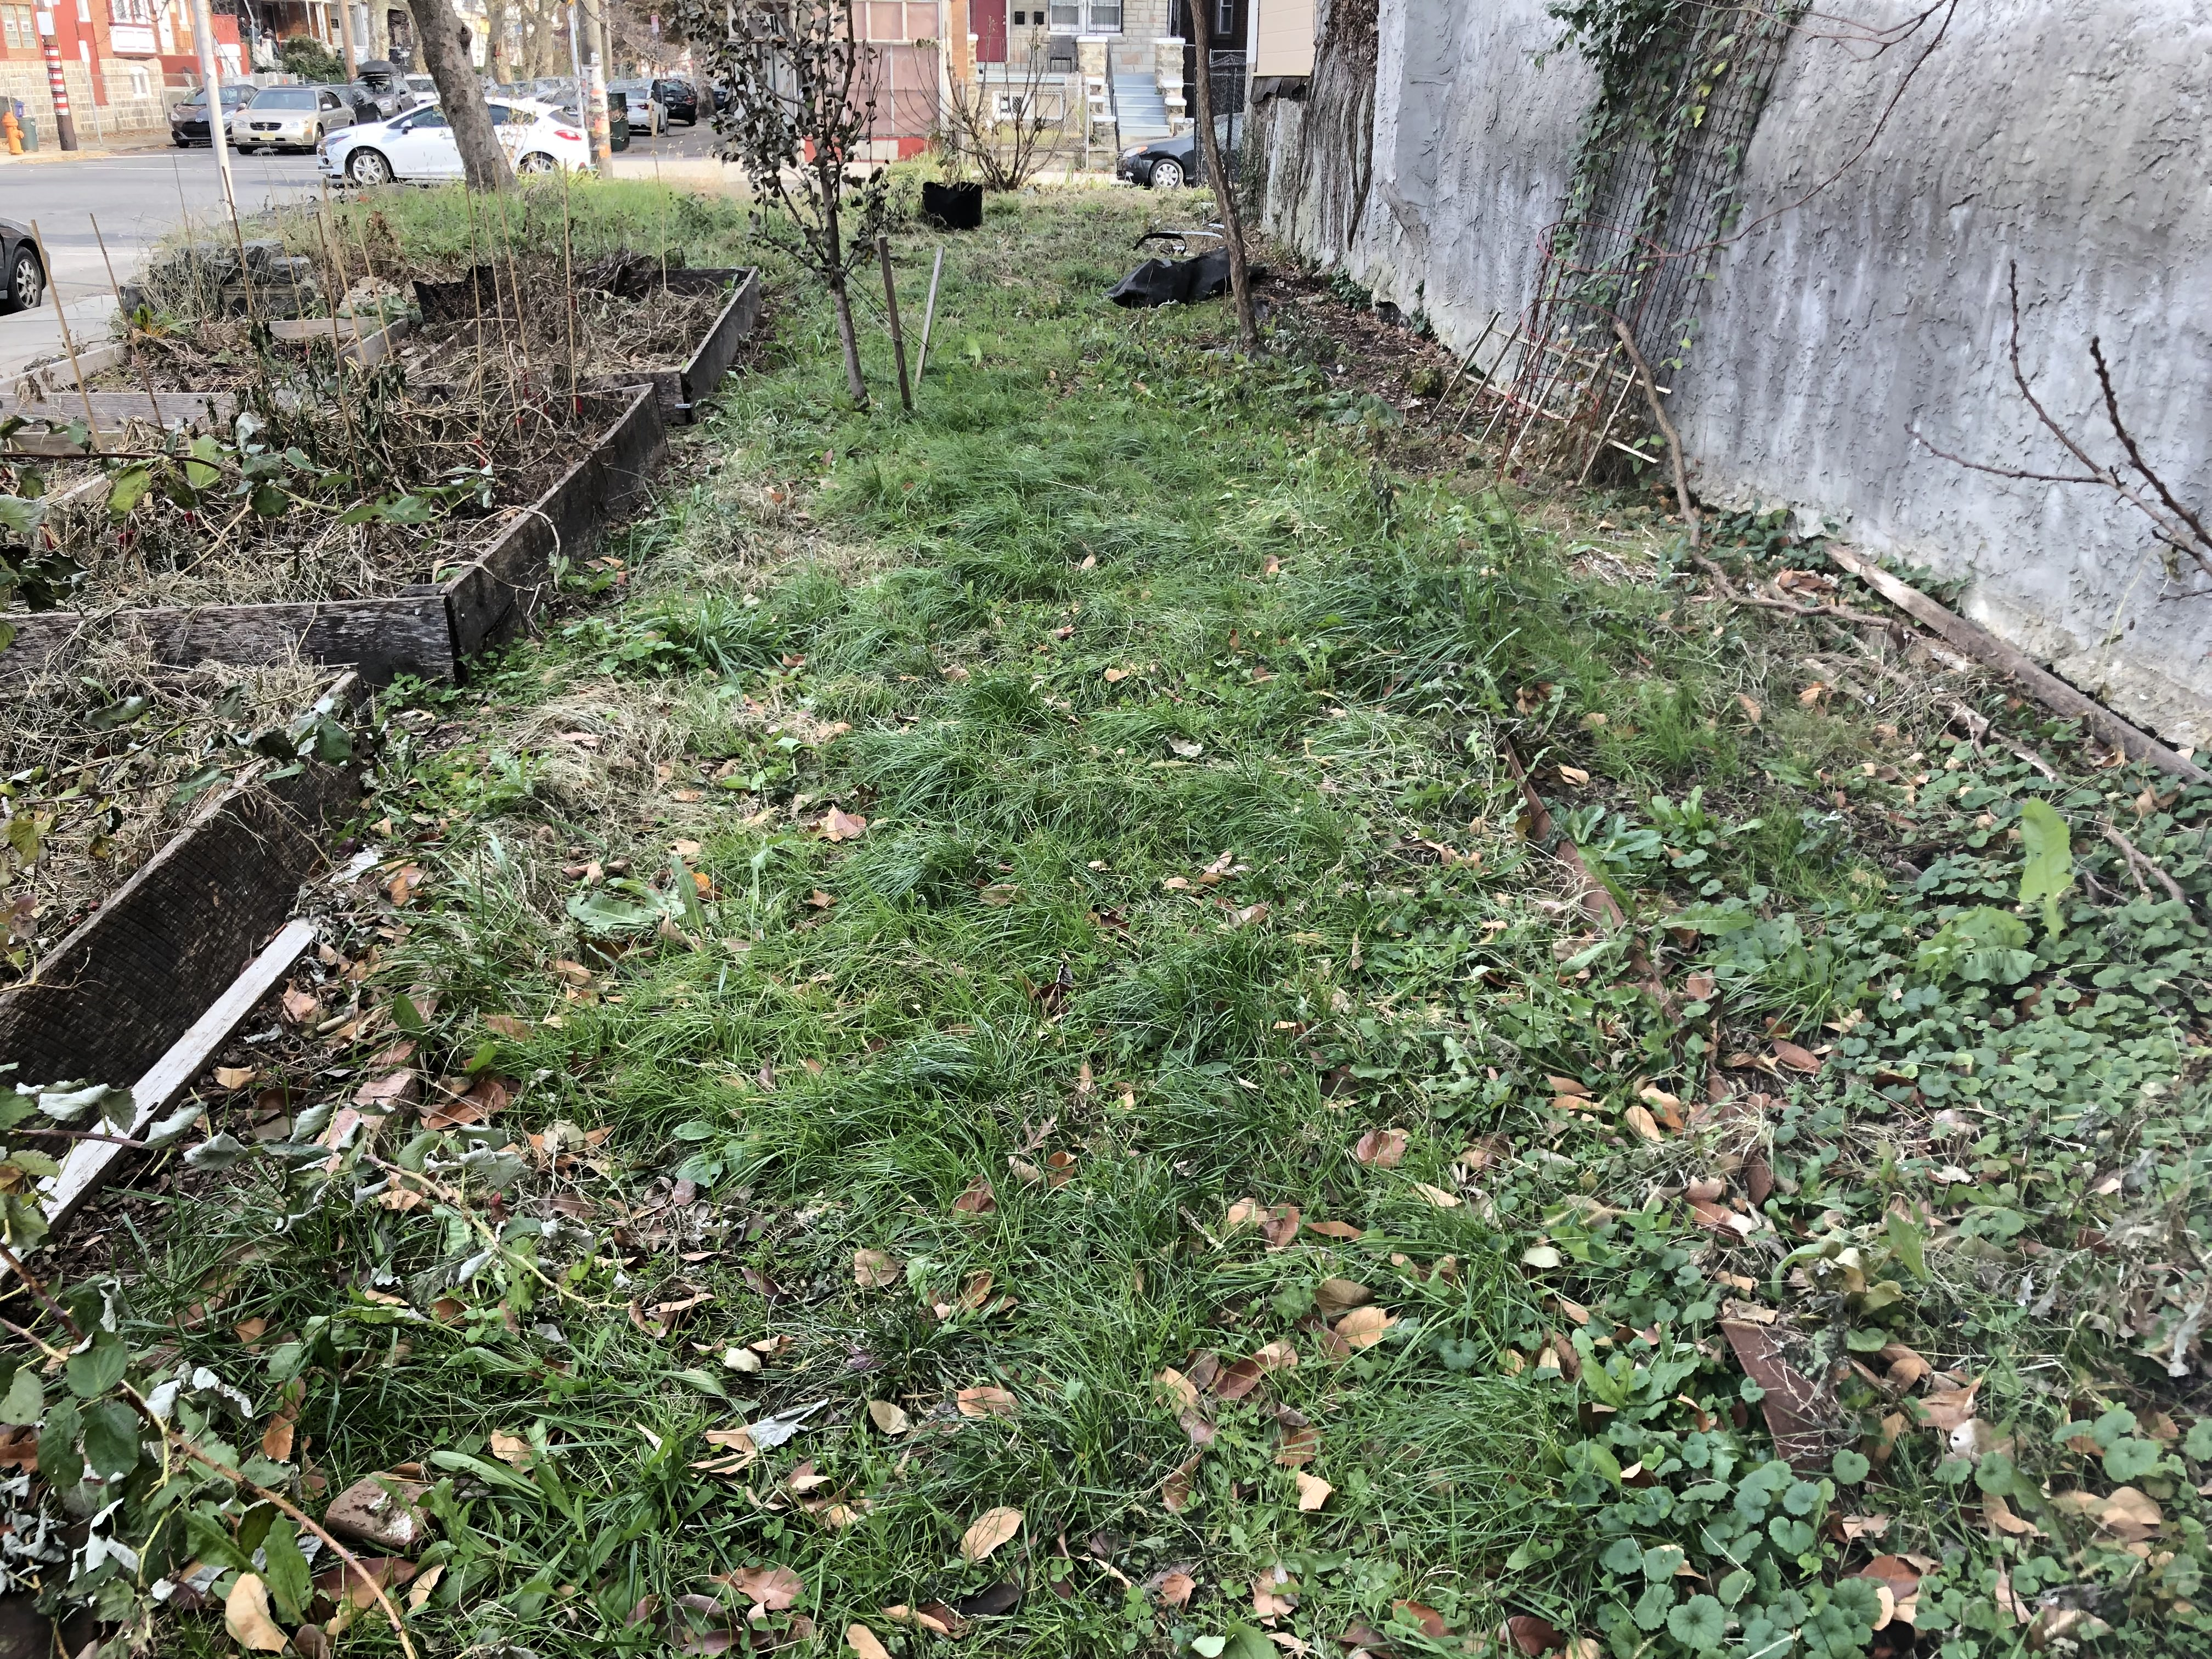raised_bed: (0, 633, 432, 1168), (0, 403, 691, 681), (91, 249, 794, 420)
rough_lawn: (653, 471, 2024, 1330)
tree: (726, 0, 888, 410)
